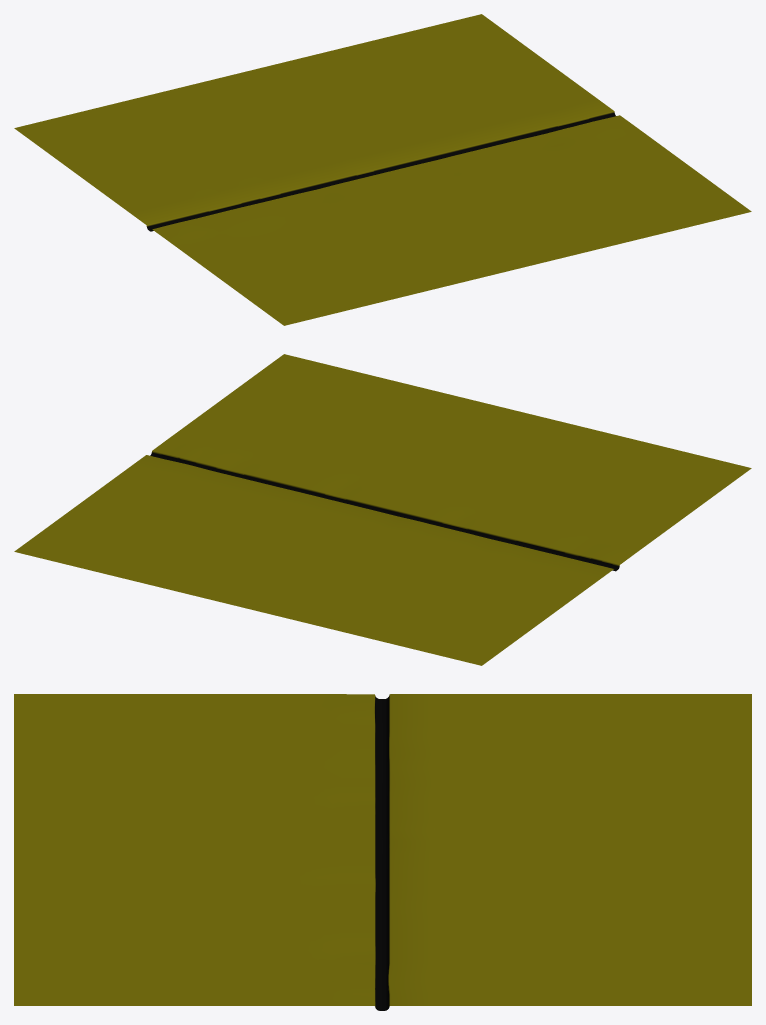
File: FarmLand.fbx
3 views of the same model, one above another, from view 1: azimuth 30°, elevation 25°; view 2: azimuth 150°, elevation 25°; view 3: azimuth 270°, elevation 25° (orthographic). The views are drawn at different scales.
Parts seen in each view (by area): view 1: Farm Area; view 2: Farm Area; view 3: Farm Area.
Part boxes in pixels (x1,y1,x2,y2): Farm Area: (14, 14, 751, 325); Farm Area: (14, 354, 751, 665); Farm Area: (14, 694, 751, 1010).
Bounding box in the file's own units: 10000 × 80.55 × 10000.
